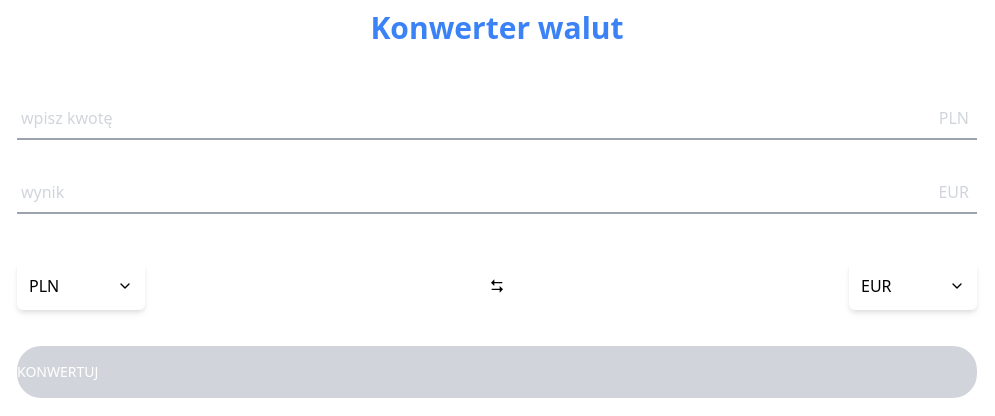
Test: form exchange › single input typing number › after typing number in first input and submit should show value in second input and no errors
Expected: the field with test id "secondInputForm" is empty, [17,180,977,214]
Type "100" into the field with test id "firstInputForm" at (497, 119), box [17,98,977,140]
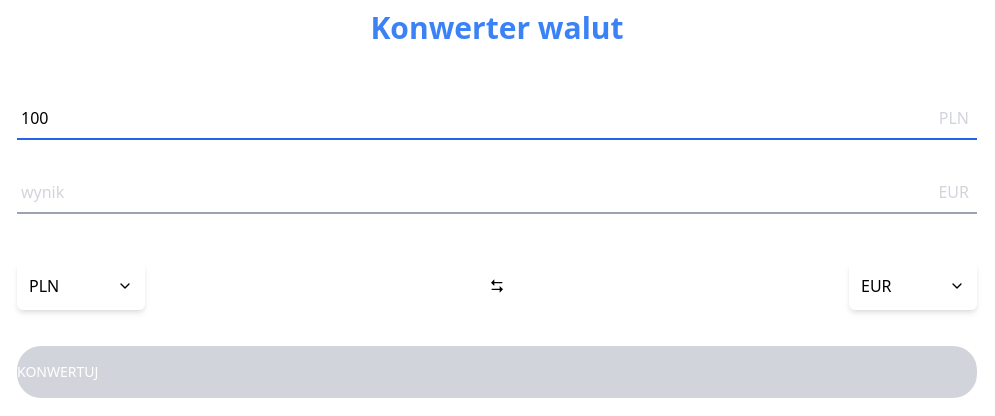
Click the button with test id "buttonSubmitForm" at (497, 372), box [17,346,977,398]
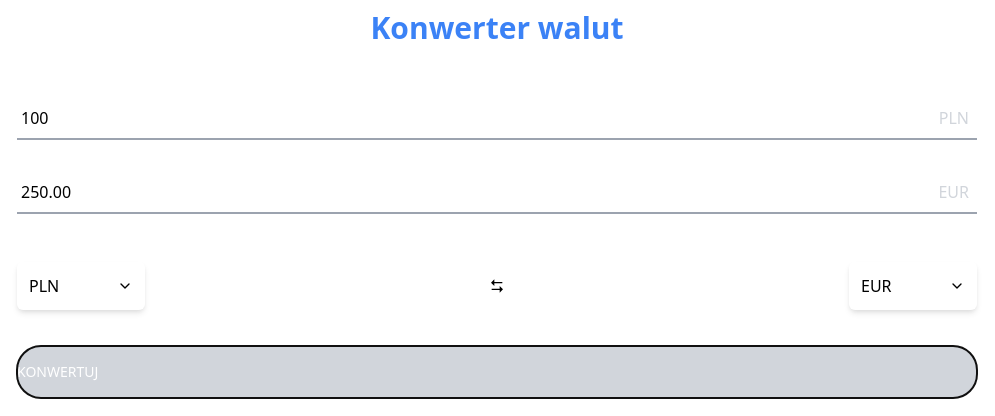
Expected: the field with test id "secondInputForm" holds "250.00", [17,180,977,214]
